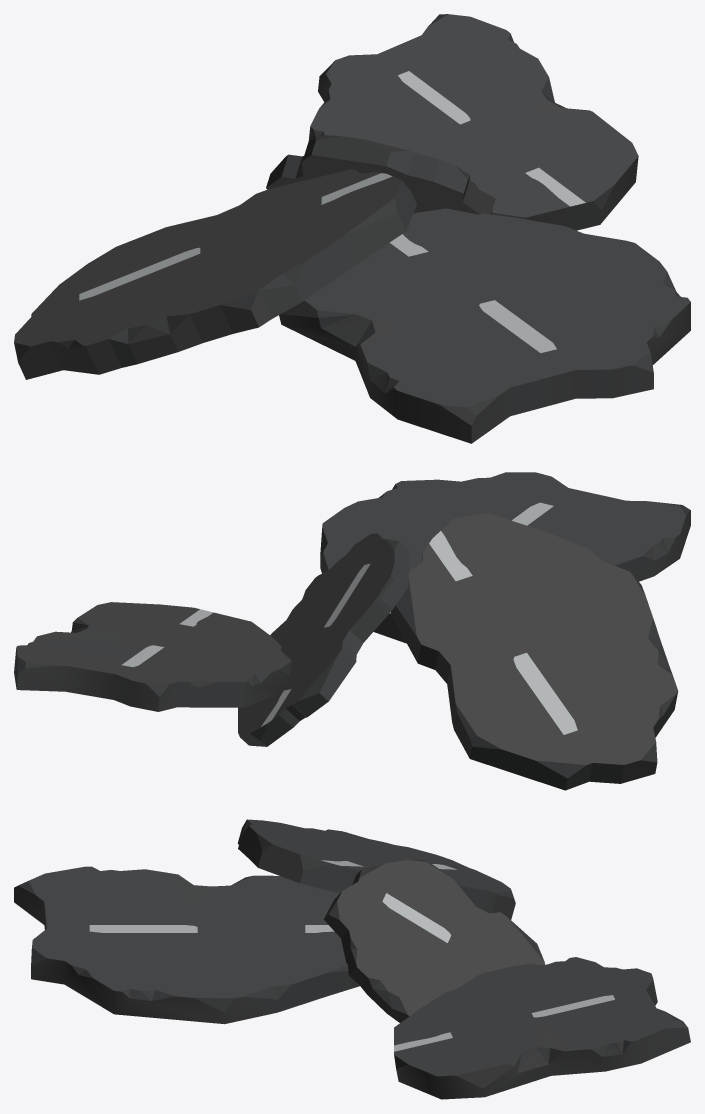
File: 20C_RoadBroken.fbx
3 renders of one model, top to bottom at view 1: azimuth 30°, elevation 25°; view 2: azimuth 150°, elevation 25°; view 3: azimuth 270°, elevation 25°, orthographic. The views are drawn at different scales.
Visible parts, largest first — view 1: 20C_RoadBroken; view 2: 20C_RoadBroken; view 3: 20C_RoadBroken.
Part boxes in pixels (x1,y1,x2,y2): 20C_RoadBroken: (14,14,690,443); 20C_RoadBroken: (14,472,690,790); 20C_RoadBroken: (14,819,690,1099).
Size of the model in its own units: 94 by 26.54 by 105.
